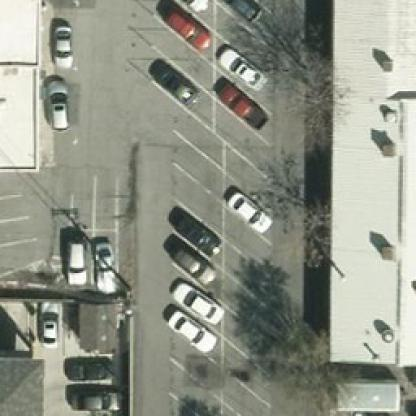car: (159, 232, 216, 283), (146, 56, 200, 107), (213, 76, 266, 127), (156, 0, 209, 49), (170, 278, 221, 324), (166, 304, 216, 350), (214, 46, 266, 86), (226, 189, 273, 231), (172, 208, 219, 250), (213, 0, 268, 28), (61, 349, 116, 377), (66, 384, 118, 412), (92, 238, 114, 288), (52, 21, 73, 70), (44, 78, 65, 127), (65, 236, 86, 284), (38, 299, 58, 348)
